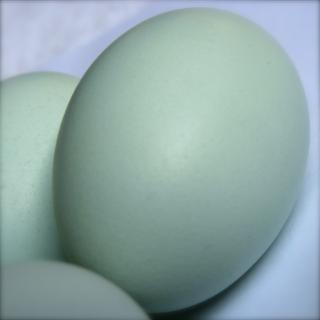Egg: (0, 7, 310, 320)
